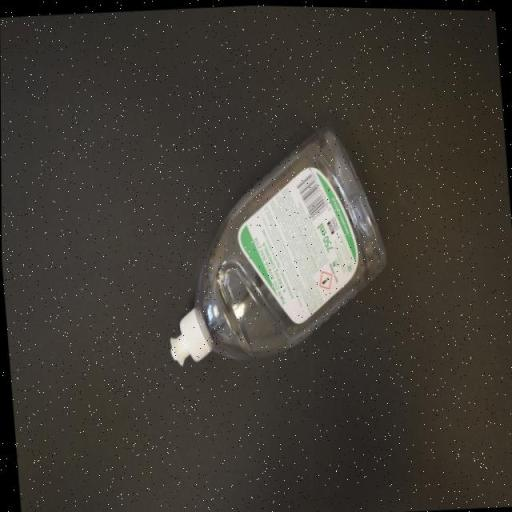plastic: (151, 115, 396, 373)
